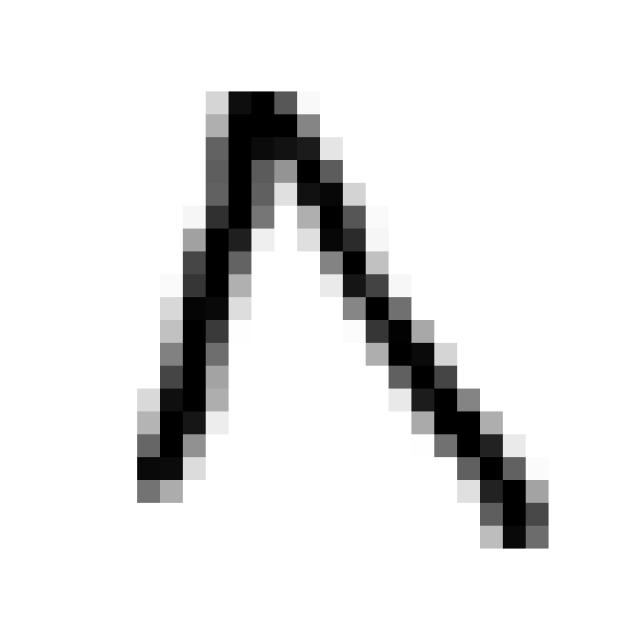8 -eight-: (112, 58, 569, 580)
